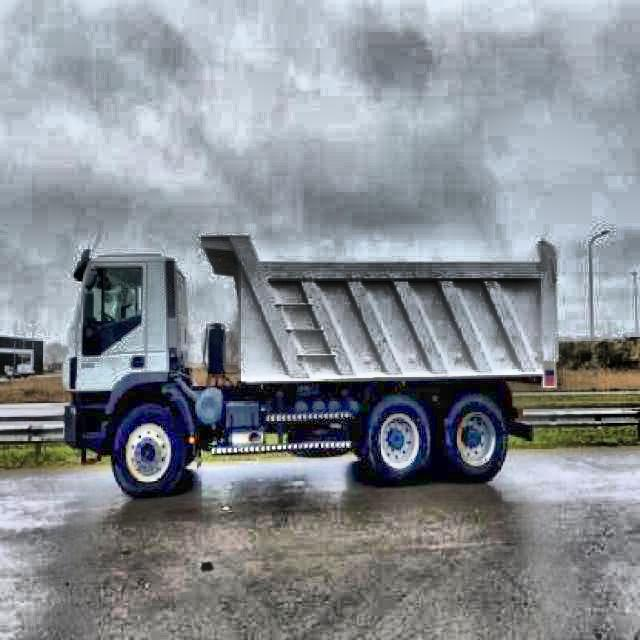dump_truck: (56, 222, 559, 500)
